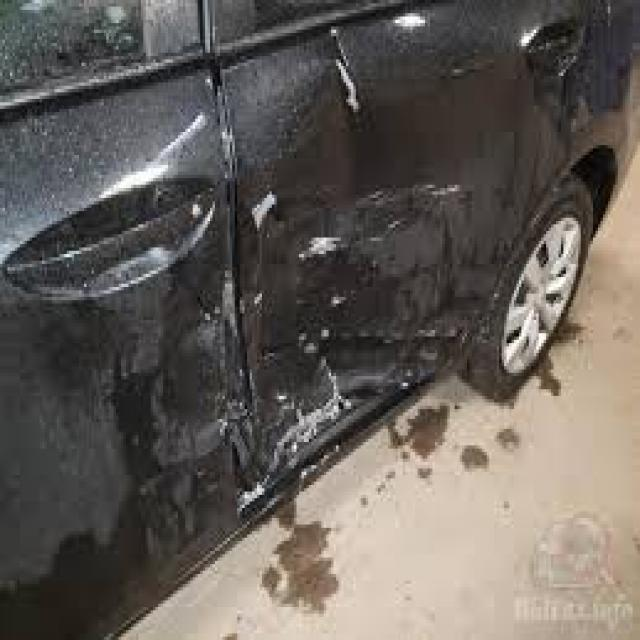damaged-door: (220, 0, 548, 492)
